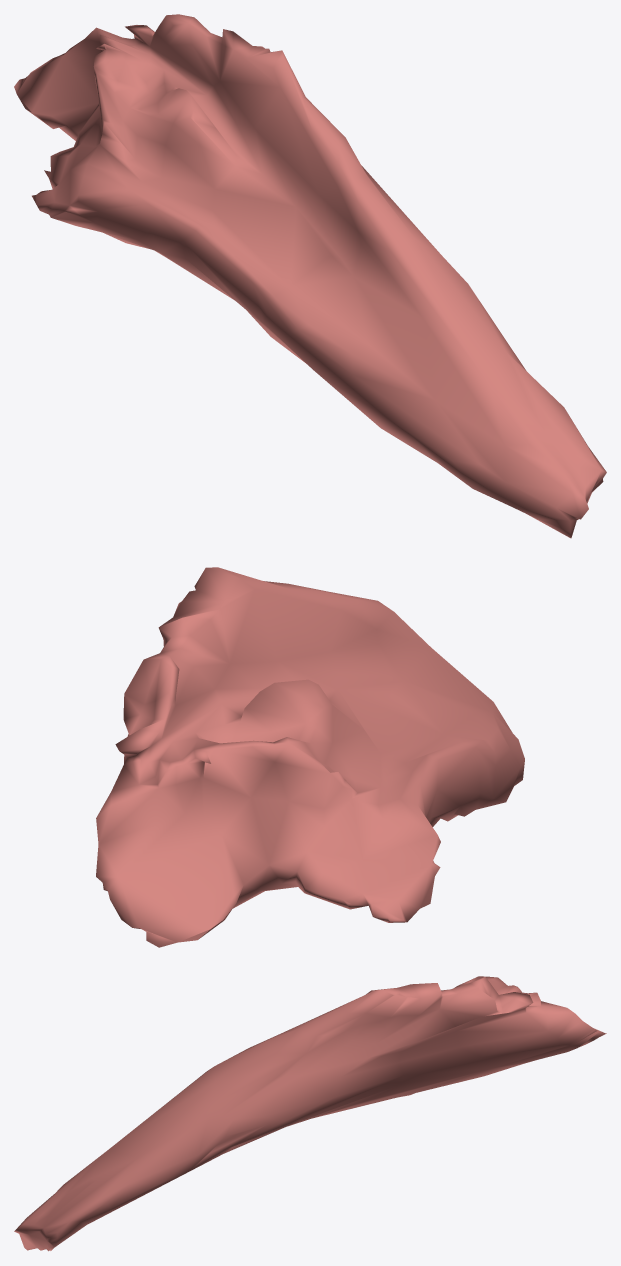
The picture shows the model from 3 angles, top to bottom: view 1: azimuth 30°, elevation 25°; view 2: azimuth 150°, elevation 25°; view 3: azimuth 270°, elevation 25°; orthographic projection. The views are drawn at different scales.
Visible parts, largest first — view 1: ZA_e9e4b6882609c3fd; view 2: ZA_e9e4b6882609c3fd; view 3: ZA_e9e4b6882609c3fd.
Part boxes in pixels (x1,y1,x2,y2): ZA_e9e4b6882609c3fd: (14,14,606,538); ZA_e9e4b6882609c3fd: (96,567,524,947); ZA_e9e4b6882609c3fd: (14,976,606,1251).
Bounding box in the file's own units: 0.028 × 0.0301 × 0.0668.
